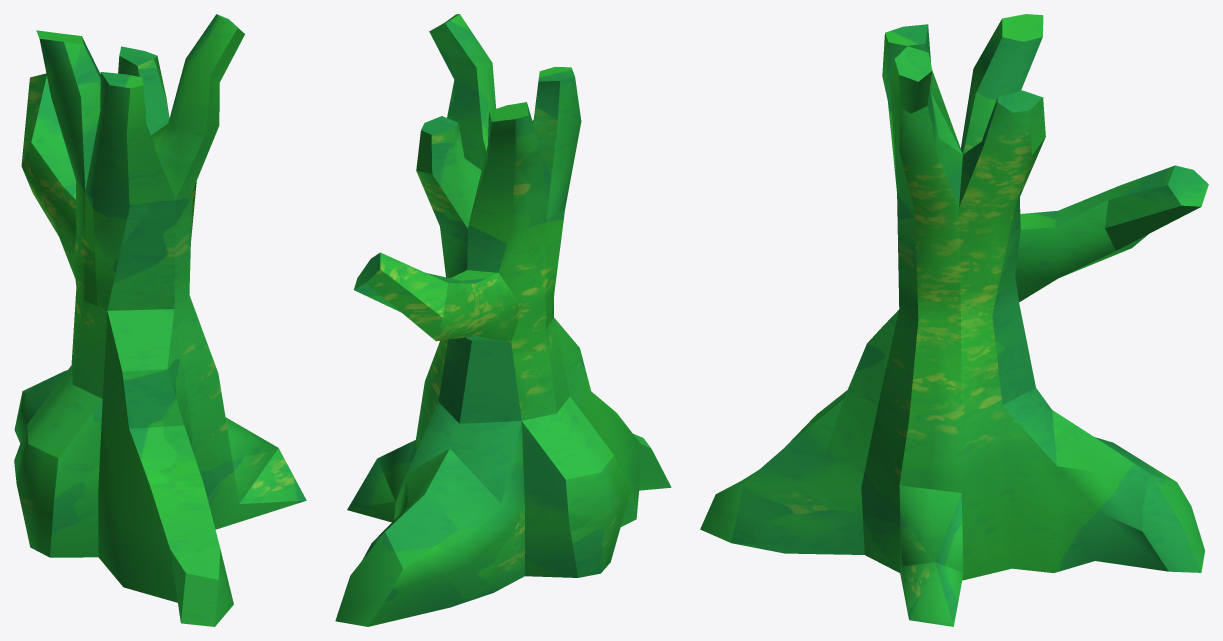
Rendered from trunk1.fbx.
3 views of the same model, side by side, from view 1: azimuth 30°, elevation 25°; view 2: azimuth 150°, elevation 25°; view 3: azimuth 270°, elevation 25° (orthographic). The views are drawn at different scales.
Visible parts, largest first — view 1: pCube3; view 2: pCube3; view 3: pCube3.
Part boxes in pixels (x1,y1,x2,y2): pCube3: [14, 14, 306, 626]; pCube3: [335, 14, 671, 626]; pCube3: [700, 14, 1208, 626].
Size of the model in its own units: 45.24 by 81.36 by 69.83.
